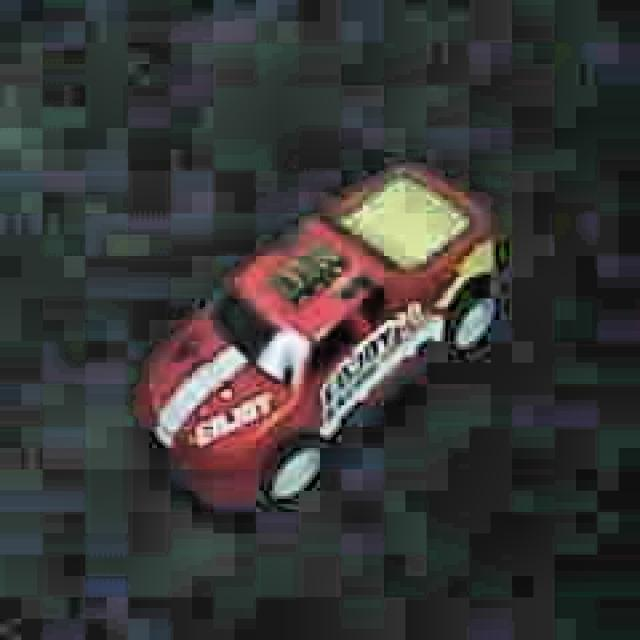car: (138, 158, 506, 514)
